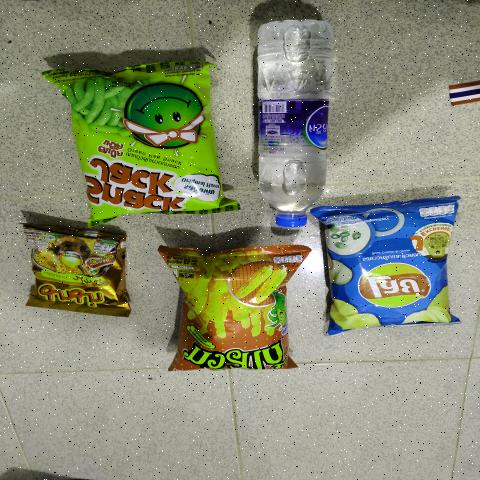crystal: (261, 17, 326, 229)
lay_blue: (335, 204, 456, 330)
mama: (40, 236, 124, 308)
snack_jack: (80, 51, 211, 216)
twisco: (168, 249, 303, 377)
